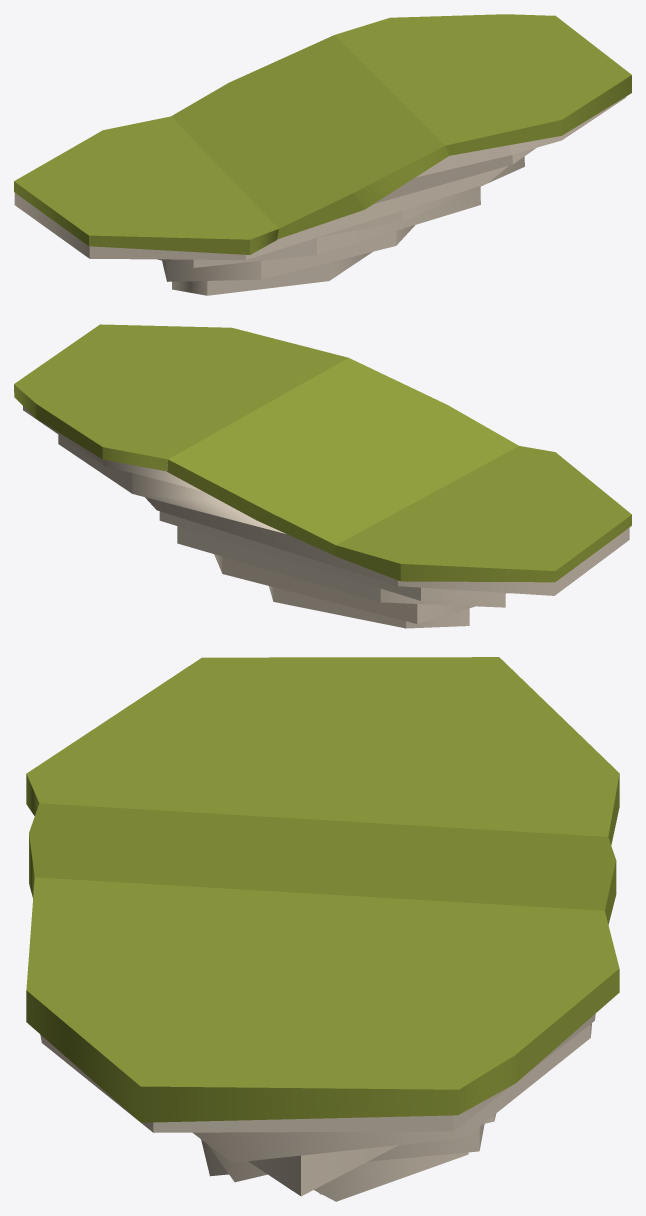
File: floor3.fbx
3 renders of one model, top to bottom at view 1: azimuth 30°, elevation 25°; view 2: azimuth 150°, elevation 25°; view 3: azimuth 270°, elevation 25°, orthographic. The views are drawn at different scales.
Parts seen in each view (by area): view 1: polySurface17; view 2: polySurface17; view 3: polySurface17.
Boxes of the visible parts, x1,y1,x2,y2 form: polySurface17: (14,14,631,295); polySurface17: (14,324,631,628); polySurface17: (26,657,619,1201).
Bounding box in the file's own units: 10.38 × 2.86 × 5.01.
Materials: 1 (1 with a texture image).
